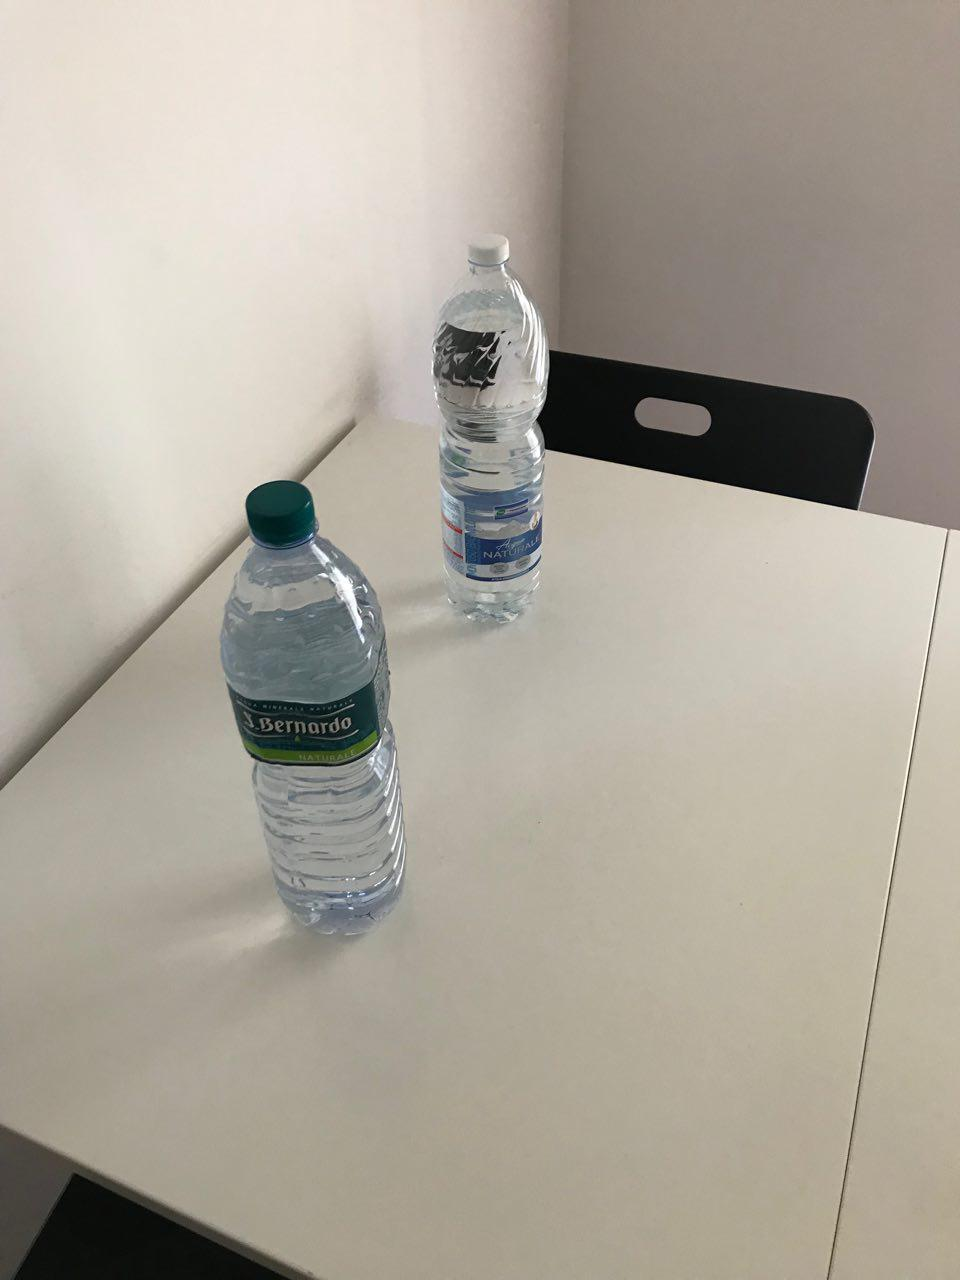san_bernardo: (218, 479, 408, 937)
